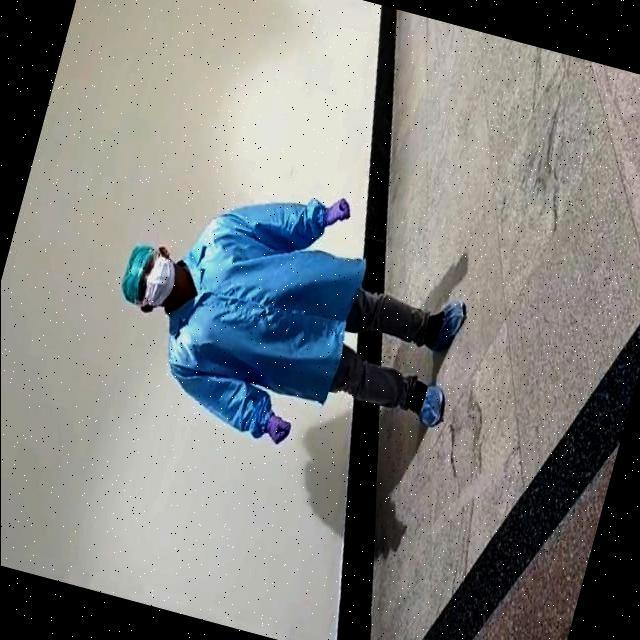gloves: (124, 243, 145, 300)
mask: (148, 263, 178, 306)
